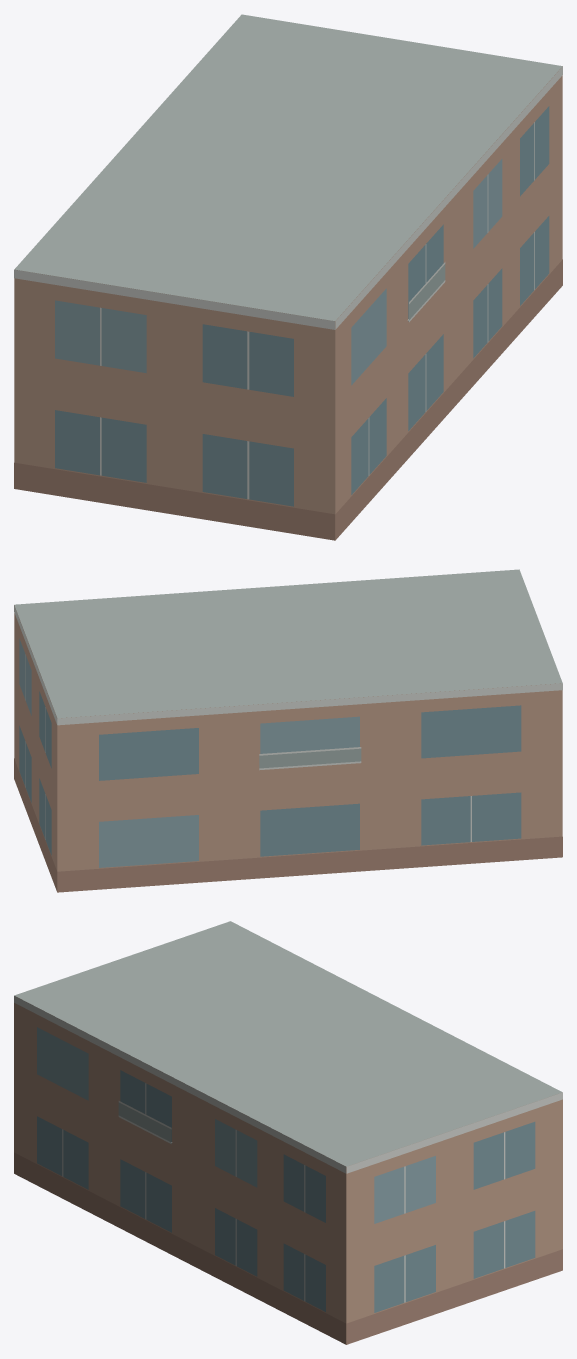
The model's file is survey-upis-32809330.glb.
3 views of the same model, one above another, from view 1: azimuth 30°, elevation 25°; view 2: azimuth 150°, elevation 25°; view 3: azimuth 270°, elevation 25° (orthographic). The views are drawn at different scales.
Parts seen in each view (by area): view 1: survey-upis-32809330.tmp; view 2: survey-upis-32809330.tmp; view 3: survey-upis-32809330.tmp.
Part boxes in pixels (box(x1,y1,x2,y2)): survey-upis-32809330.tmp: box(14, 14, 562, 540); survey-upis-32809330.tmp: box(14, 569, 562, 892); survey-upis-32809330.tmp: box(14, 921, 562, 1344).
Size of the model in its own units: 18.05 by 6.1 by 17.04.
